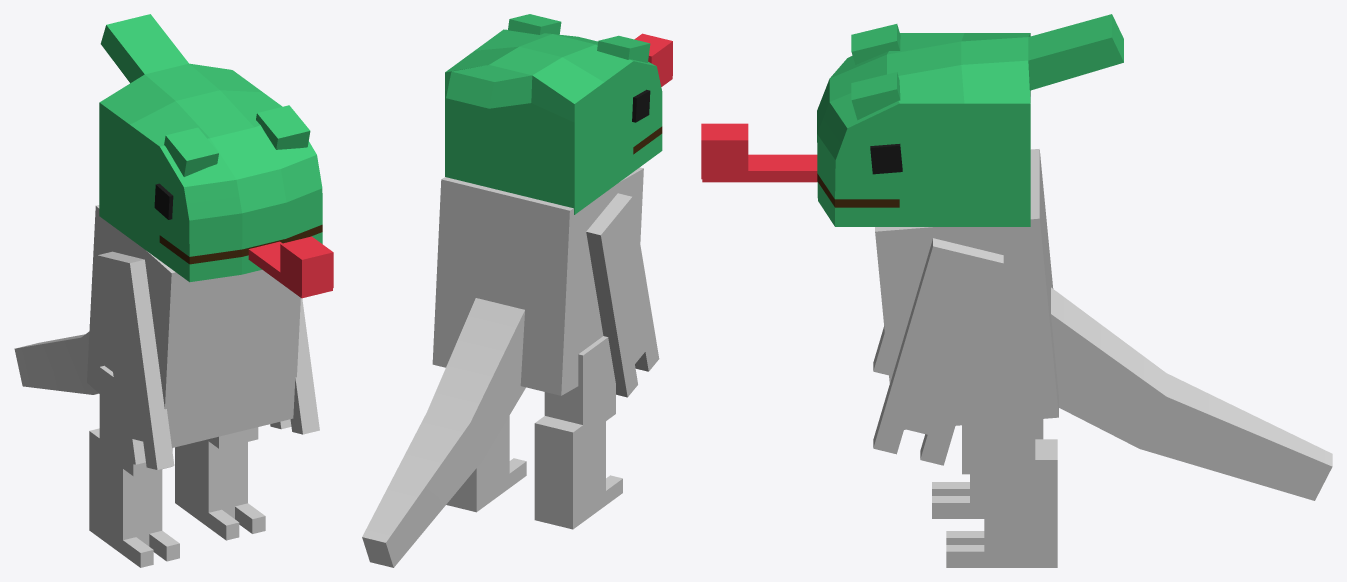
Rendered from Character_idle_1.FBX.
The picture shows the model from 3 angles, left to right: view 1: azimuth 30°, elevation 25°; view 2: azimuth 150°, elevation 25°; view 3: azimuth 270°, elevation 25°; orthographic projection. The views are drawn at different scales.
Parts seen in each view (by area): view 1: Box003, Box001, Box007, Box016, Box013, Box011, Box017, Object002, Object001; view 2: Box003, Box001, Box011, Box007, Box016, Object002, Box013; view 3: Box003, Box011, Box001, Box017, Box013, Object001, Box016.
Boxes of the visible parts, left/top/right/bottom form: Box003: left=99, top=14, right=333, bottom=298; Box001: left=87, top=205, right=300, bottom=447; Box007: left=97, top=251, right=174, bottom=469; Box016: left=89, top=428, right=179, bottom=567; Box013: left=175, top=439, right=265, bottom=540; Box011: left=14, top=332, right=98, bottom=394; Box017: left=270, top=298, right=319, bottom=434; Object002: left=99, top=365, right=172, bottom=476; Object001: left=207, top=427, right=258, bottom=448; Box003: left=445, top=14, right=672, bottom=214; Box001: left=432, top=167, right=643, bottom=395; Box011: left=362, top=298, right=525, bottom=567; Box007: left=586, top=193, right=659, bottom=397; Box016: left=534, top=416, right=622, bottom=529; Object002: left=544, top=336, right=615, bottom=437; Box013: left=446, top=416, right=526, bottom=512; Box003: left=701, top=14, right=1123, bottom=226; Box011: left=1051, top=287, right=1332, bottom=500; Box001: left=875, top=149, right=1058, bottom=429; Box017: left=873, top=238, right=1003, bottom=465; Box013: left=946, top=439, right=1057, bottom=567; Object001: left=962, top=419, right=1035, bottom=474; Box016: left=932, top=419, right=1043, bottom=518.
Size of the model in its own units: 36.92 by 102 by 115.
